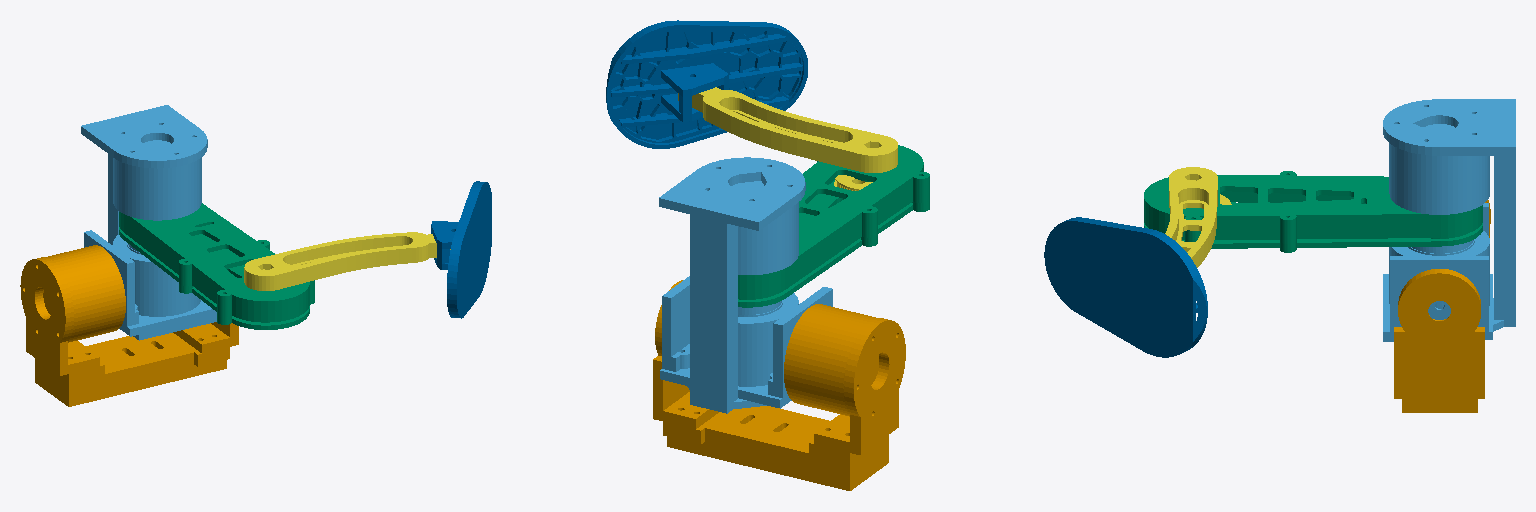
URDF robot description (leg_day_snowshoe):
<?xml version="1.0"?>
<!-- generated by sim/export_urdf.py from the leg_day CAD; body frame X fwd, Y up, Z outboard -->
<robot name="leg_day_snowshoe">
  <link name="base">
    <inertial>
      <origin xyz="-0.0430059 2.21005e-09 -0.0133192" rpy="0 0 0"/>
      <mass value="0.30384"/>
      <inertia ixx="2.3996e-04" ixy="9.8197e-12" ixz="1.0241e-04" iyy="4.8148e-04" iyz="1.5124e-12" izz="3.4370e-04"/>
    </inertial>
    <visual><geometry><mesh filename="meshes/base.stl"/></geometry></visual>
    <collision><geometry><mesh filename="meshes/base.stl"/></geometry></collision>
  </link>
  <link name="abad">
    <inertial>
      <origin xyz="1.04886e-05 0.00123472 0.0578423" rpy="0 0 0"/>
      <mass value="0.84615"/>
      <inertia ixx="1.5785e-03" ixy="1.0939e-08" ixz="5.8888e-07" iyy="1.5679e-03" iyz="1.8305e-05" izz="2.8333e-04"/>
    </inertial>
    <visual><geometry><mesh filename="meshes/abad.stl"/></geometry></visual>
    <collision><geometry><mesh filename="meshes/abad.stl"/></geometry></collision>
  </link>
  <link name="thigh">
    <inertial>
      <origin xyz="-3.17143e-05 -0.0632604 0.0383563" rpy="0 0 0"/>
      <mass value="0.10029"/>
      <inertia ixx="2.8795e-04" ixy="7.3602e-08" ixz="-8.9865e-10" iyy="3.4124e-05" iyz="-6.1522e-08" izz="3.1327e-04"/>
    </inertial>
    <visual><geometry><mesh filename="meshes/thigh.stl"/></geometry></visual>
    <collision><geometry><mesh filename="meshes/thigh.stl"/></geometry></collision>
  </link>
  <link name="shank">
    <inertial>
      <origin xyz="0.00323497 -0.0354382 0.0483904" rpy="0 0 0"/>
      <mass value="0.03322"/>
      <inertia ixx="6.1103e-05" ixy="3.2355e-06" ixz="-4.3864e-07" iyy="4.4908e-06" iyz="5.0254e-06" izz="6.2166e-05"/>
    </inertial>
    <visual><geometry><mesh filename="meshes/shank.stl"/></geometry></visual>
    <collision><geometry><mesh filename="meshes/shank.stl"/></geometry></collision>
  </link>
  <link name="shoe">
    <inertial>
      <origin xyz="-0.0072288 -0.00921779 0.0530965" rpy="0 0 0"/>
      <mass value="0.03328"/>
      <inertia ixx="1.0130e-05" ixy="-7.2698e-07" ixz="3.0236e-08" iyy="2.9133e-05" iyz="1.1188e-08" izz="2.2201e-05"/>
    </inertial>
    <visual><geometry><mesh filename="meshes/shoe.stl"/></geometry></visual>
    <collision><geometry><mesh filename="meshes/shoe.stl"/></geometry></collision>
  </link>
  <joint name="abad" type="revolute">
    <parent link="base"/>
    <child link="abad"/>
    <origin xyz="0 0 0" rpy="0 0 0"/>
    <axis xyz="1 0 0"/>
    <limit lower="-0.78540" upper="0.78540" effort="4.100" velocity="38.75"/>
  </joint>
  <joint name="hip" type="revolute">
    <parent link="abad"/>
    <child link="thigh"/>
    <origin xyz="0 0 0" rpy="0 0 0"/>
    <axis xyz="0 0 1"/>
    <limit lower="-1.74533" upper="1.74533" effort="4.100" velocity="38.75"/>
  </joint>
  <joint name="knee" type="revolute">
    <parent link="thigh"/>
    <child link="shank"/>
    <origin xyz="0 -0.13 0" rpy="0 0 0"/>
    <axis xyz="0 0 1"/>
    <limit lower="0.26180" upper="2.53073" effort="2.292" velocity="12.92"/>
  </joint>
  <joint name="ankle" type="revolute">
    <parent link="shank"/>
    <child link="shoe"/>
    <origin xyz="0.00173648 -0.120152 0" rpy="0 0 0"/>
    <axis xyz="0 0 1"/>
    <limit lower="-0.90757" upper="-0.19199" effort="0.000" velocity="50.00"/>
    <dynamics damping="0.002" friction="0.09"/>   <!-- friction hinge: M3 nylock on a wave washer, ~90 mN m -->
  </joint>
</robot>

--- Render facts (derived) ---
3 views of the same robot in one strip: view 1: azimuth 30°, elevation 25°; view 2: azimuth 150°, elevation 25°; view 3: azimuth 270°, elevation 25° (orthographic).
Model leg_day_snowshoe with 5 links and 4 joints (4 revolute), rooted at base, posed all joints at 0 but 2 set to mid-range because 0 is outside their limits (knee = 1.4, ankle = -0.5498).
Links seen in each view (by area): view 1: base, abad, thigh, shank, shoe; view 2: abad, base, shoe, thigh, shank; view 3: abad, thigh, shoe, base, shank.
Boxes of the visible links, left/top/right/bottom form: base: left=20, top=245, right=238, bottom=406; abad: left=81, top=105, right=216, bottom=340; thigh: left=119, top=203, right=314, bottom=329; shank: left=244, top=232, right=450, bottom=290; shoe: left=431, top=181, right=491, bottom=318; abad: left=659, top=157, right=832, bottom=413; base: left=653, top=280, right=905, bottom=490; shoe: left=606, top=20, right=807, bottom=148; thigh: left=738, top=145, right=929, bottom=307; shank: left=678, top=87, right=897, bottom=190; abad: left=1383, top=99, right=1515, bottom=341; thigh: left=1144, top=171, right=1482, bottom=252; shoe: left=1044, top=217, right=1207, bottom=357; base: left=1394, top=200, right=1490, bottom=412; shank: left=1165, top=167, right=1231, bottom=267.
Size in the robot's own frame: 0.2347 by 0.2485 by 0.1515 metres.
Meshes: 5 distinct files referenced, 5 mesh visuals loaded (5 binary STL).
